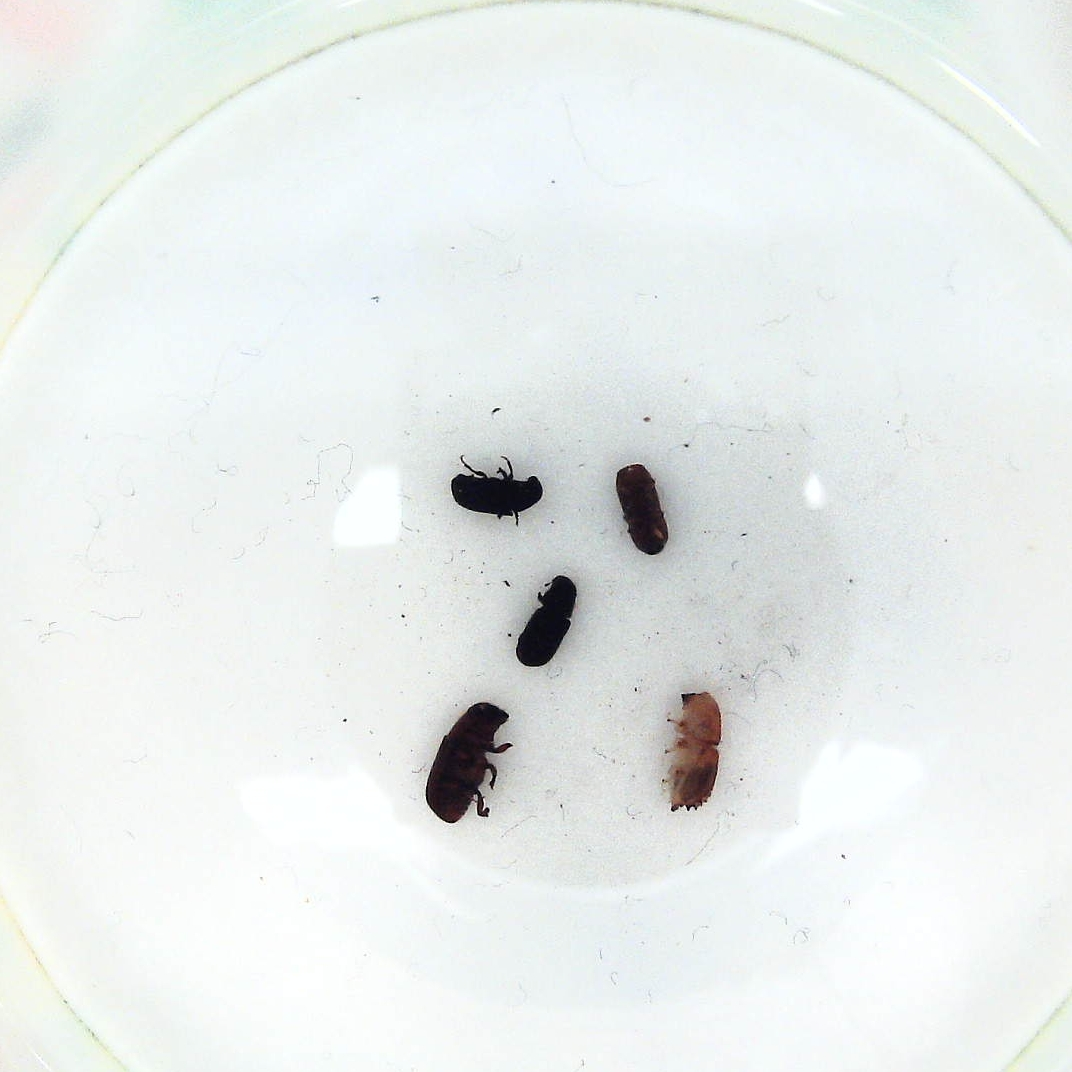Boerner: (655, 688, 730, 814)
Leconte: (425, 697, 513, 827)
armandi: (515, 573, 581, 670)
coleoptera: (447, 456, 545, 529)
linnaeus: (608, 456, 669, 561)
